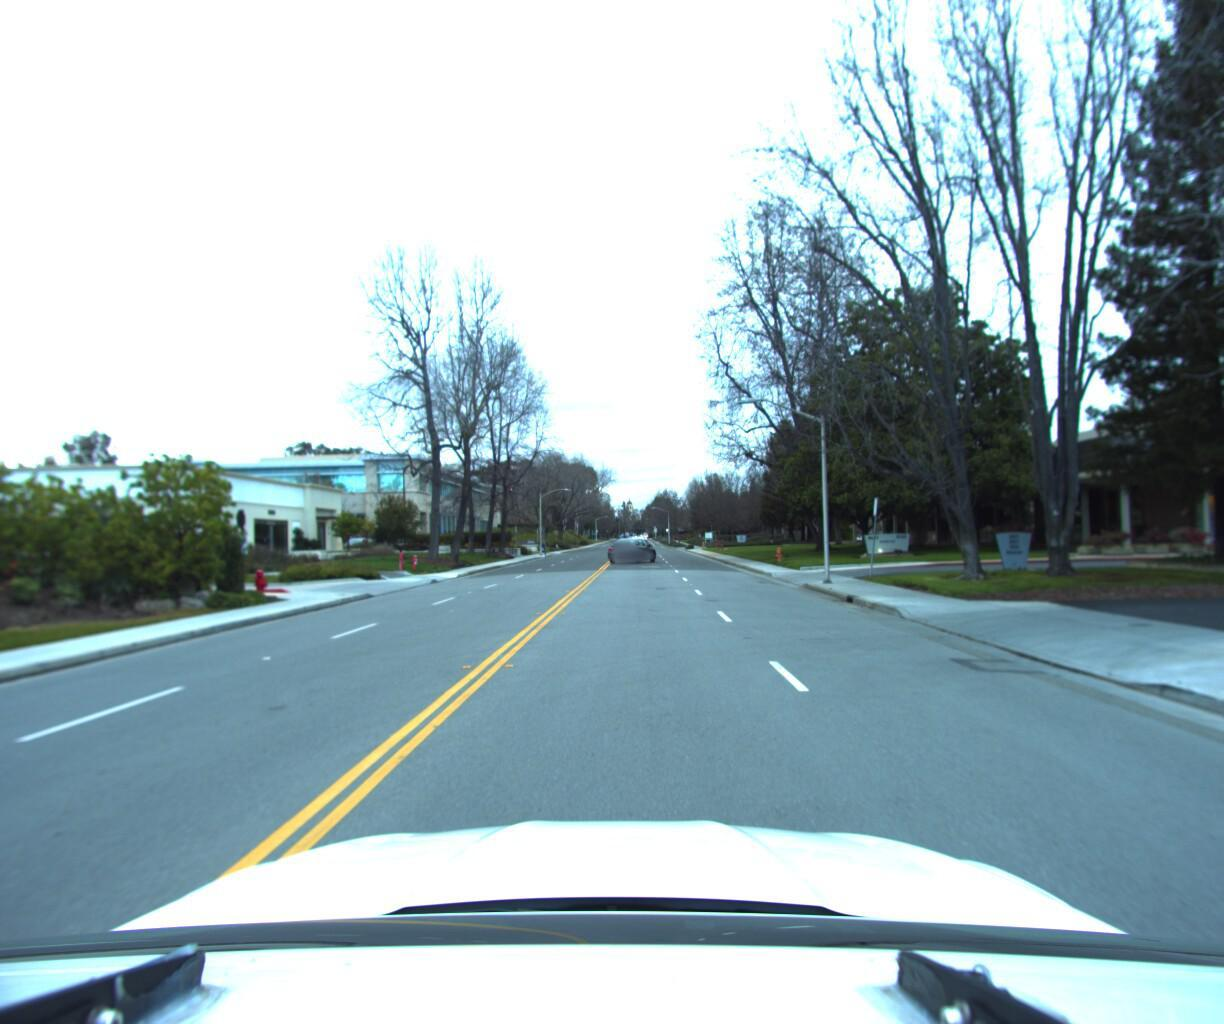car: (605, 536, 661, 562)
